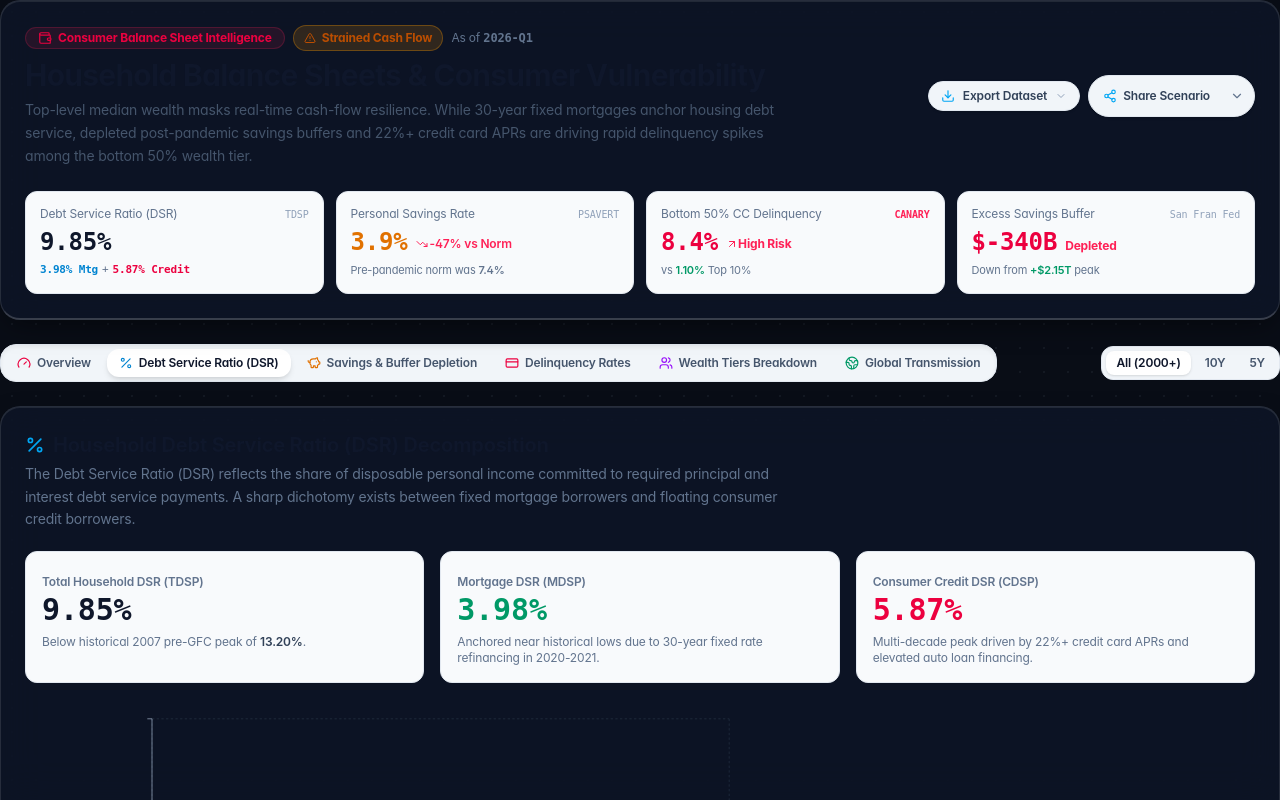
Test: HouseholdVulnerabilityRadar Component › switches to Savings & Buffer Depletion view
Step 1. Click the button "Savings & Buffer Depletion" → (392, 363), box [295,349,489,377]
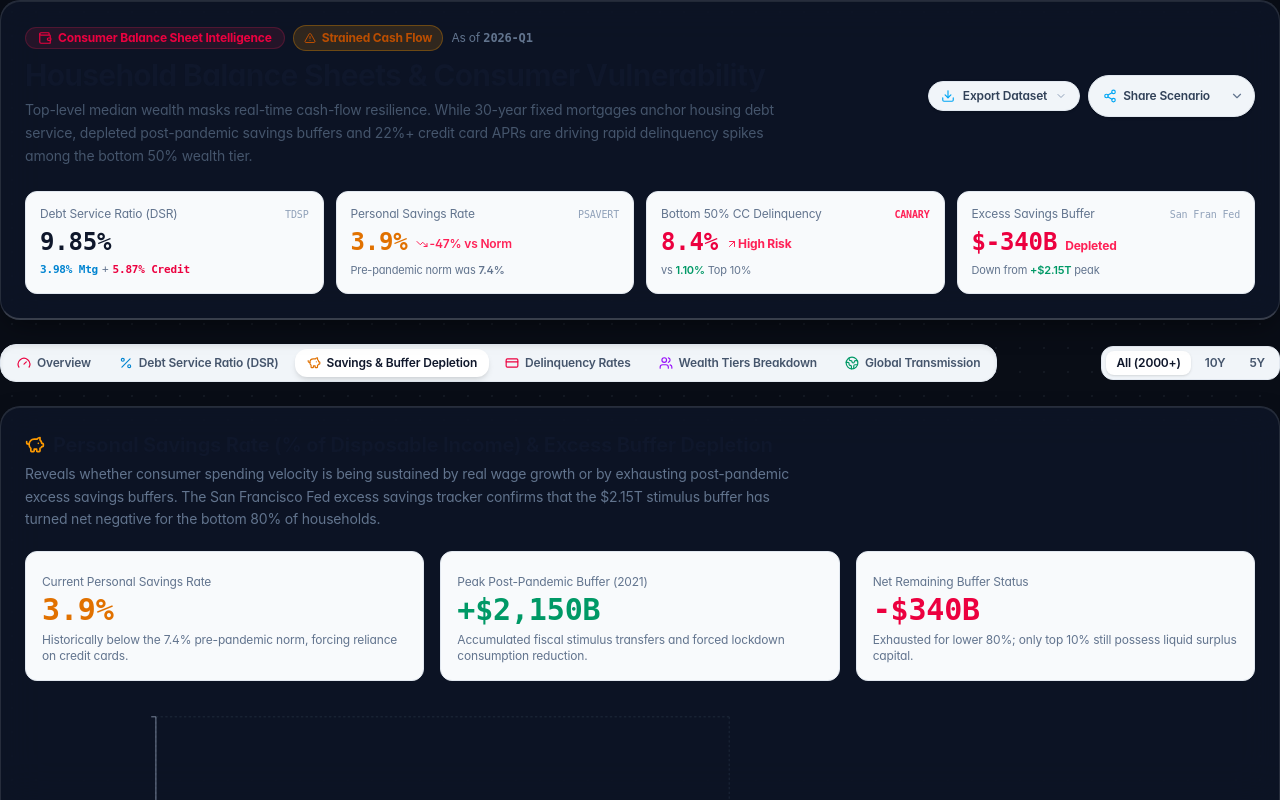
Expected: the heading "Personal Savings Rate (% of Disposable Income) & Excess Buffer Depletion" is shown, [25,433,773,457]
Expected: the text "Current Personal Savings Rate" is shown, [42,574,211,589]
Expected: the text "Peak Post-Pandemic Buffer (2021)" is shown, [457,574,648,589]
